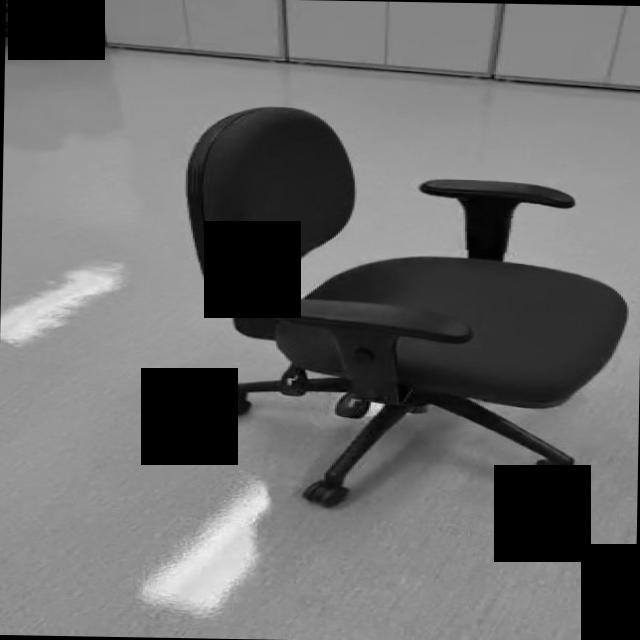cadeira-azul: (180, 104, 632, 512)
